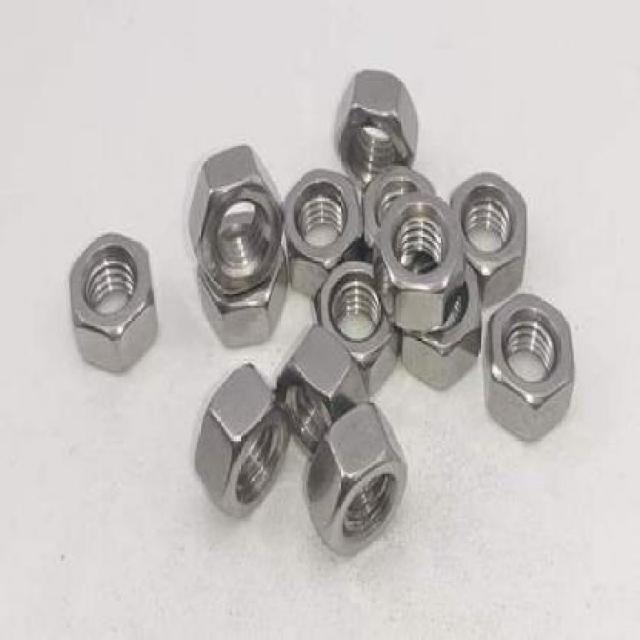Nut: (304, 400, 411, 557), (188, 143, 285, 296), (196, 363, 290, 520), (483, 294, 575, 444), (372, 192, 467, 333), (195, 210, 291, 347), (70, 230, 160, 374), (309, 260, 399, 397), (277, 324, 368, 459), (280, 166, 365, 301), (448, 171, 529, 305), (334, 68, 420, 190), (402, 264, 484, 391), (363, 165, 437, 262)
